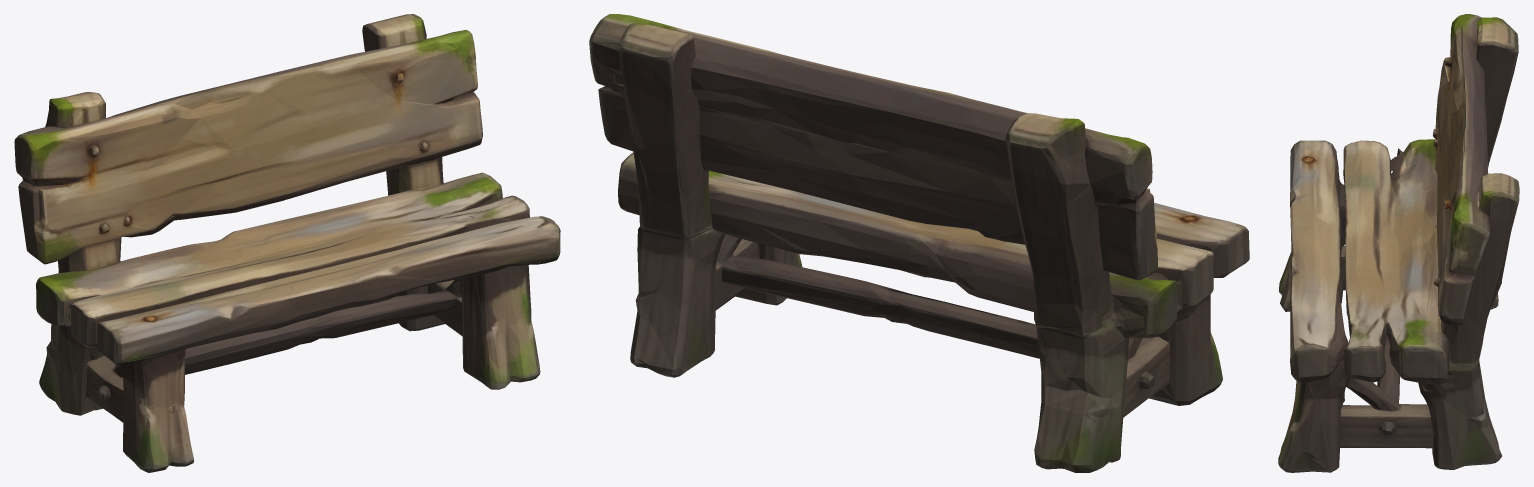
The model's file is bench.glb.
The picture shows the model from 3 angles, left to right: view 1: azimuth 30°, elevation 25°; view 2: azimuth 150°, elevation 25°; view 3: azimuth 270°, elevation 25°; orthographic projection. The views are drawn at different scales.
Visible parts, largest first — view 1: world; view 2: world; view 3: world.
Boxes of the visible parts, x1,y1,x2,y2 form: world: [14, 14, 560, 472]; world: [589, 14, 1249, 472]; world: [1278, 14, 1519, 472].
Bounding box in the file's own units: 0.9982 × 0.6167 × 0.4794.
1 material, 1 textured.
